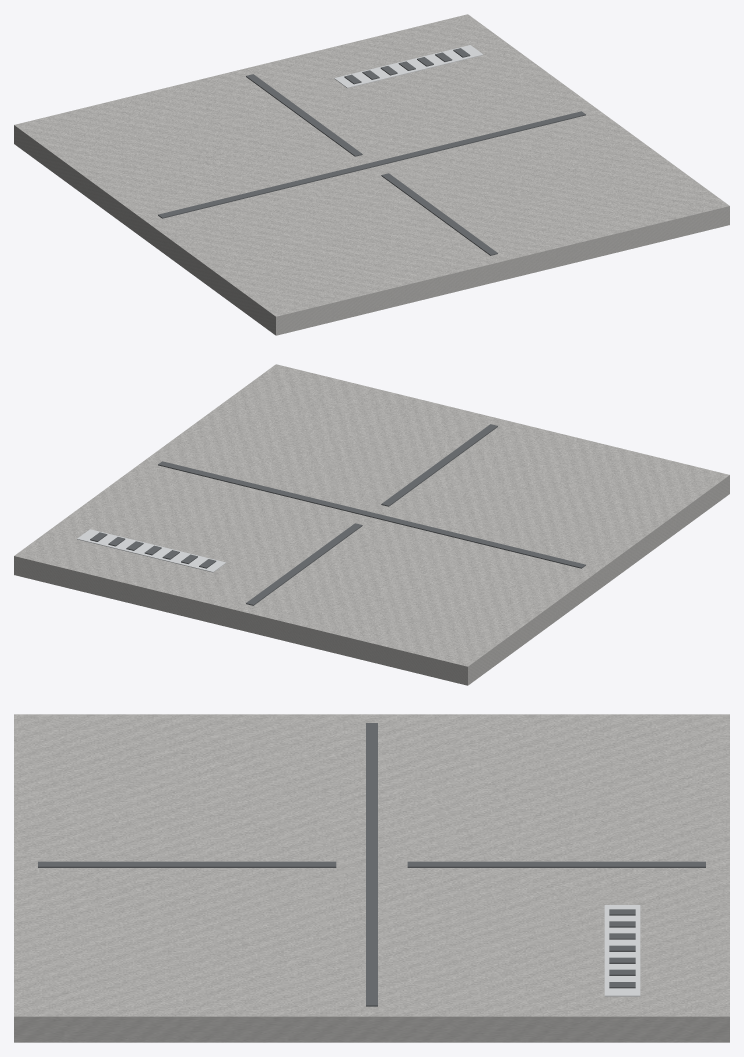
The model's file is self-storage-facility-and-loading-bay-self-storage-fac-ffe49e1e__34691.glb.
3 views of the same model, one above another, from view 1: azimuth 30°, elevation 25°; view 2: azimuth 150°, elevation 25°; view 3: azimuth 270°, elevation 25° (orthographic). The views are drawn at different scales.
Visible parts, largest first — view 1: self-storage-facility-and-loading-bay-external-ground-tile; view 2: self-storage-facility-and-loading-bay-external-ground-tile; view 3: self-storage-facility-and-loading-bay-external-ground-tile.
Part boxes in pixels (bbox=[...]): self-storage-facility-and-loading-bay-external-ground-tile: bbox=[14, 14, 729, 335]; self-storage-facility-and-loading-bay-external-ground-tile: bbox=[14, 364, 729, 685]; self-storage-facility-and-loading-bay-external-ground-tile: bbox=[14, 714, 729, 1042].
Bounding box in the file's own units: 3 × 0.1301 × 3.
3 materials, 1 textured.
